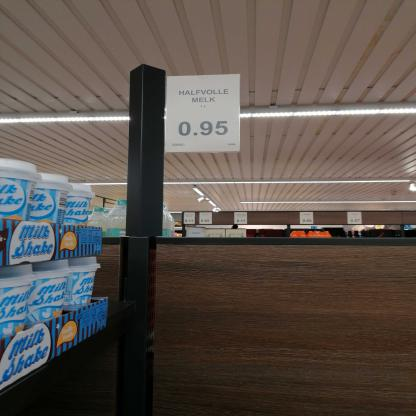prtg: (165, 74, 244, 153), (348, 213, 363, 226), (300, 213, 315, 225), (235, 213, 249, 225), (200, 213, 213, 225), (185, 213, 196, 225)
